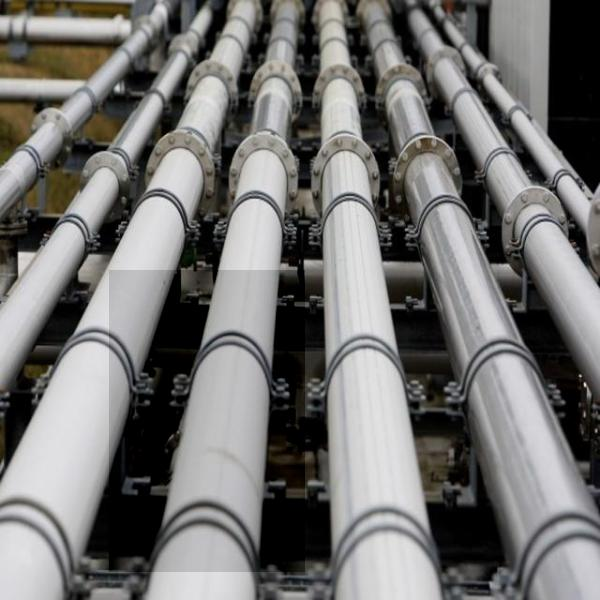no leak: (109, 270, 305, 572)
